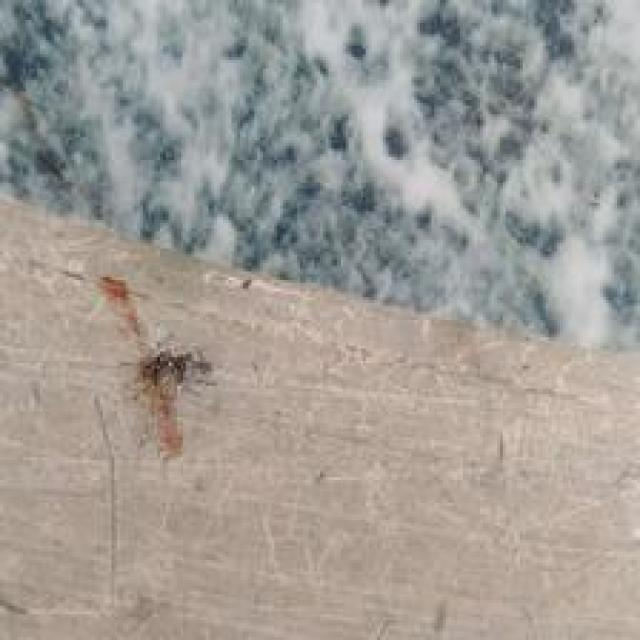Aedes albopictus: (86, 273, 217, 461)
